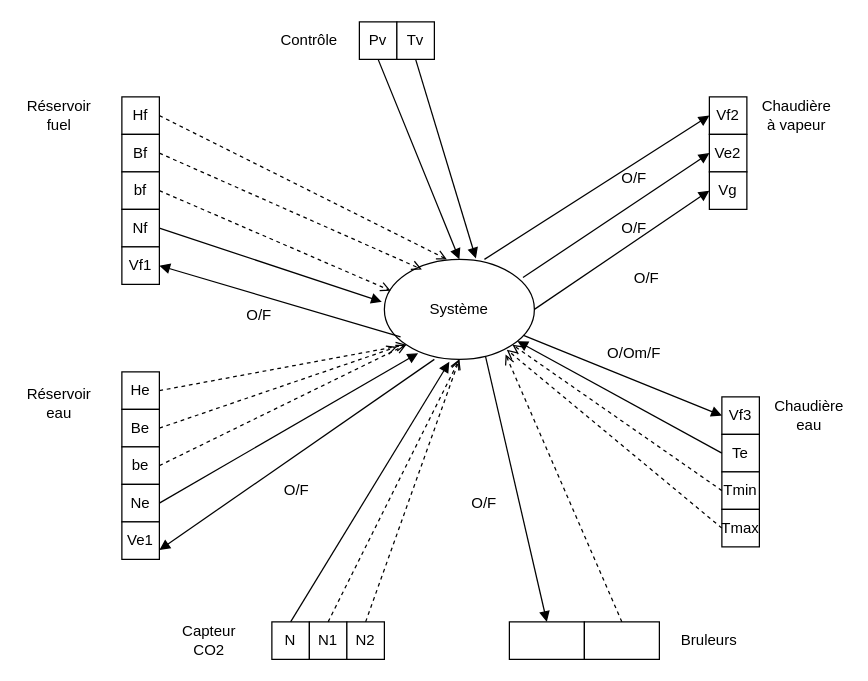
Some shapes in this 868 by 681 pixel diagram are drawn without their labels. The box of each missing label's shape, as (x1, y1, x2, y2) in pixels:
Capteur flamme: (583, 621, 659, 659)
Ventilation: (508, 621, 584, 659)
